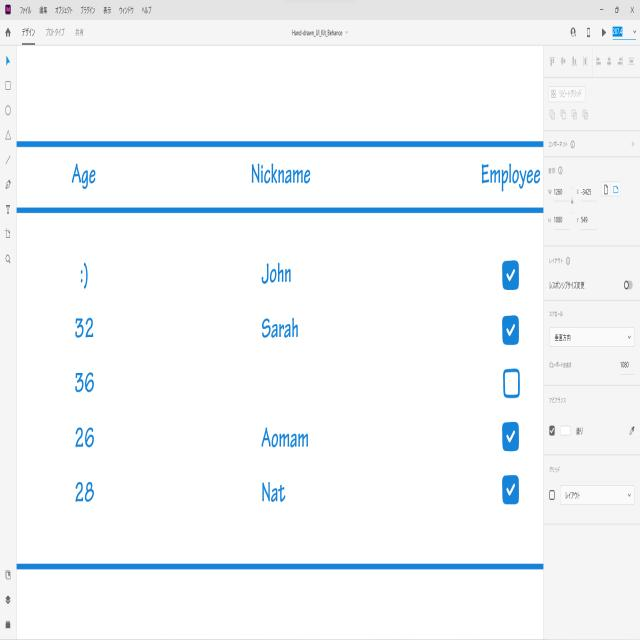checkbox: (502, 475, 520, 506), (502, 422, 520, 451), (502, 262, 519, 290), (502, 316, 519, 344), (549, 426, 555, 436)
